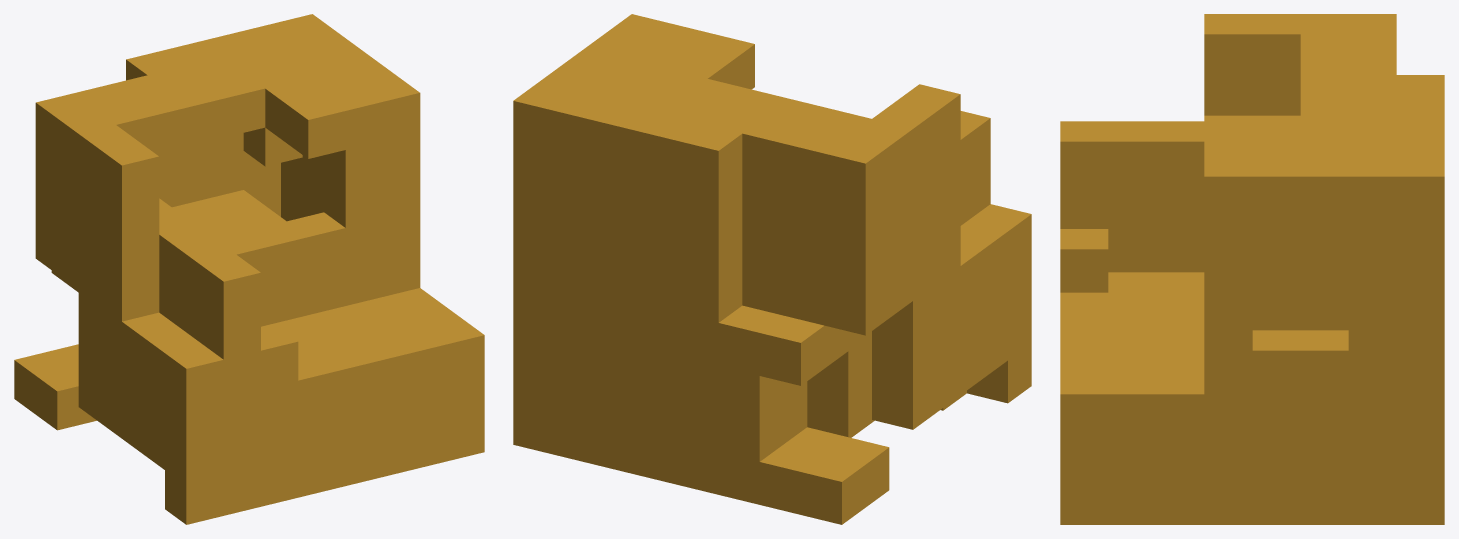
The model's file is fragment3.obj.
The picture shows the model from 3 angles, left to right: view 1: azimuth 30°, elevation 25°; view 2: azimuth 150°, elevation 25°; view 3: azimuth 270°, elevation 25°; orthographic projection. The views are drawn at different scales.
Bounding box in the file's own units: 8 × 8 × 8.
1 material, 1 textured.
